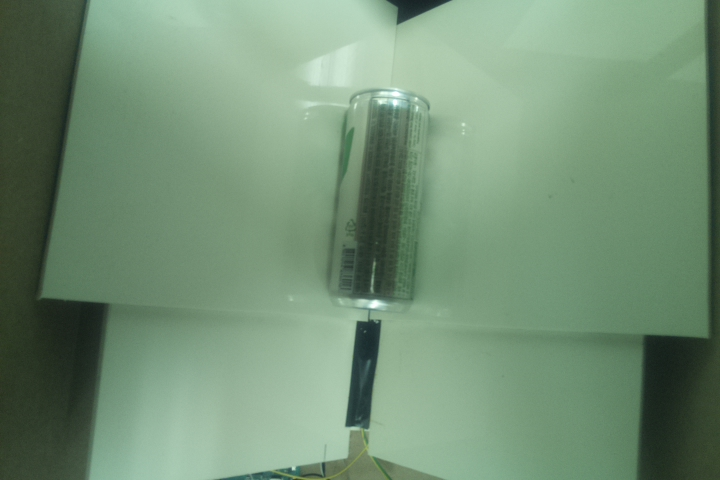can: (328, 86, 435, 317)
